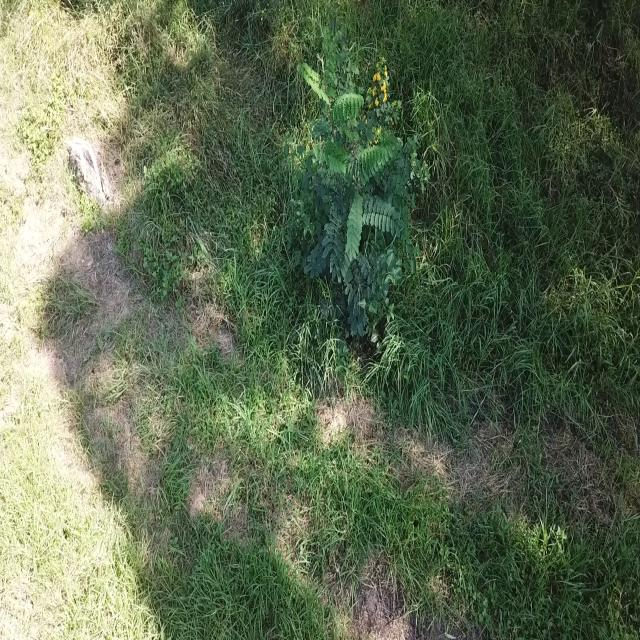Mysore-Thorn-Weed: (280, 36, 423, 367)
